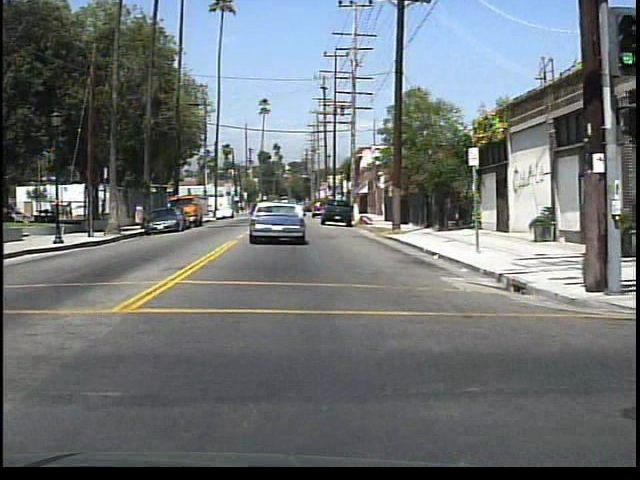person: (135, 201, 148, 229), (97, 196, 111, 221), (64, 198, 77, 223)
